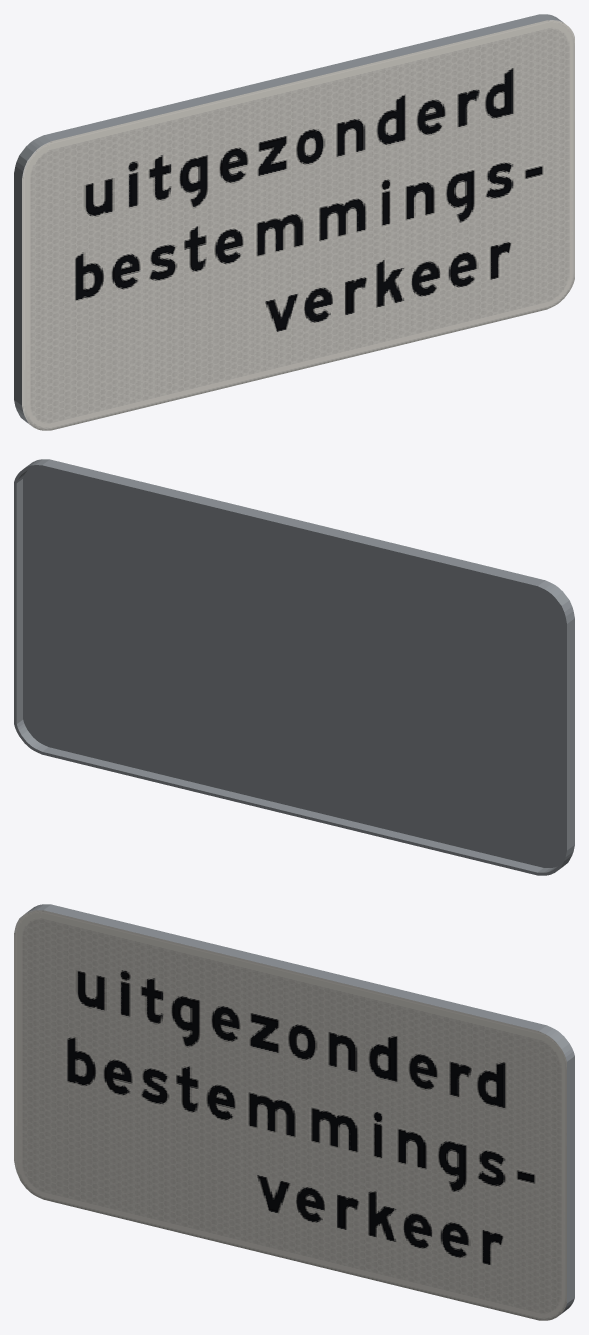
The picture shows the model from 3 angles, top to bottom: view 1: azimuth 30°, elevation 25°; view 2: azimuth 150°, elevation 25°; view 3: azimuth 330°, elevation 25°; orthographic projection.
Visible parts, largest first — view 1: cat_0eadd083ac45221f; view 2: cat_0eadd083ac45221f; view 3: cat_0eadd083ac45221f.
Part boxes in pixels (x1=…): cat_0eadd083ac45221f: x1=14, y1=14, x2=574, y2=430; cat_0eadd083ac45221f: x1=14, y1=459, x2=574, y2=875; cat_0eadd083ac45221f: x1=14, y1=904, x2=574, y2=1320.
Bounding box in the file's own units: 0.6 × 0.015 × 0.3.
2 materials, 1 textured.
